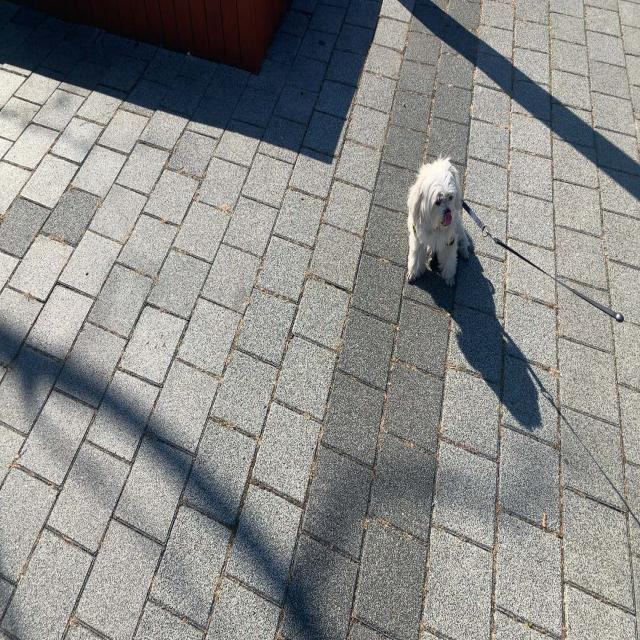Dog: (404, 151, 472, 290)
